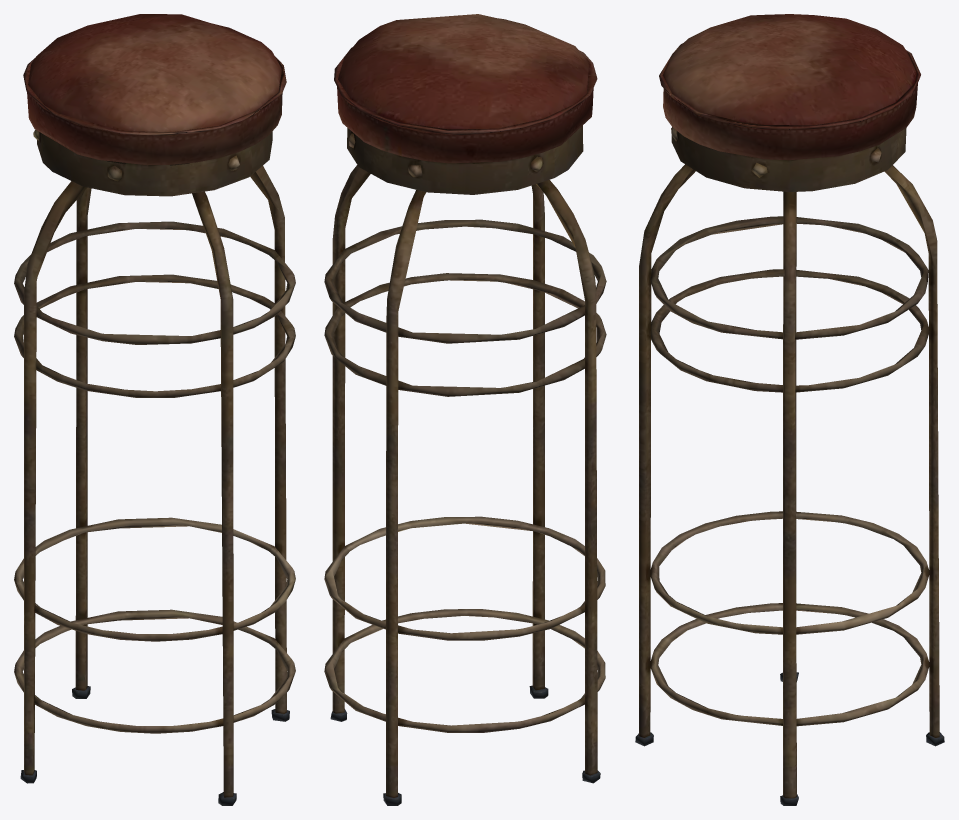
Rendered from stoolMetal.glb.
3 views of the same model, side by side, from view 1: azimuth 30°, elevation 25°; view 2: azimuth 150°, elevation 25°; view 3: azimuth 270°, elevation 25° (orthographic).
Visible parts, largest first — view 1: metal_stool_01; view 2: metal_stool_01; view 3: metal_stool_01.
Part boxes in pixels (left/top/right/bottom): metal_stool_01: left=14, top=14, right=295, bottom=805; metal_stool_01: left=324, top=14, right=606, bottom=805; metal_stool_01: left=635, top=14, right=944, bottom=805.
Bounding box in the file's own units: 0.3505 × 0.8822 × 0.3538.
Materials: 1 (1 with a texture image).
